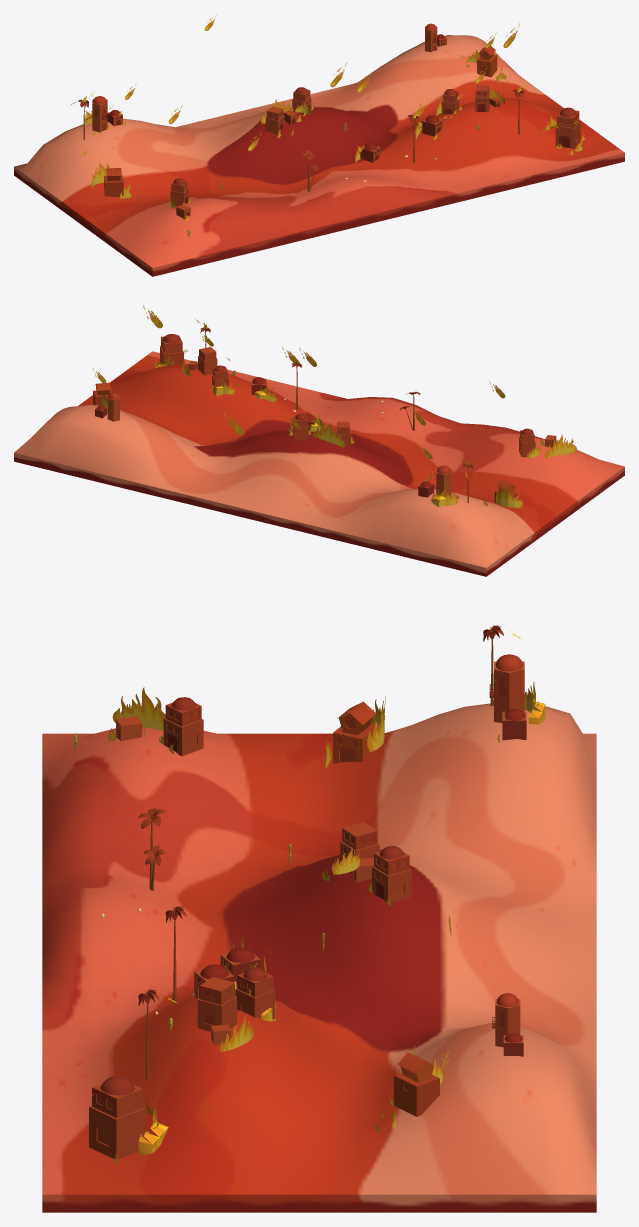
Rendered from MDL_Pag 19 - 20.fbx.
The picture shows the model from 3 angles, top to bottom: view 1: azimuth 30°, elevation 25°; view 2: azimuth 150°, elevation 25°; view 3: azimuth 270°, elevation 25°; orthographic projection. The views are drawn at different scales.
Parts seen in each view (by area): view 1: MDL_Piso_doble pag, MDL_Edificio_B_1, MDL_Edificio_E_1, MDL_Casa_A_1, MDL_Casa_A_2, MDL_Edificio_C_1, MDL_Edificio_B_3, MDL_Edificio_B_4, MDL_Edificio_C_2, MDL_Edificio_B_2; view 2: MDL_Piso_doble pag, MDL_Edificio_B_1, MDL_Fuego_7, MDL_Edificio_C_2, MDL_Edificio_E_1, MDL_Fuego_6, MDL_Edificio_B_3, MDL_Fuego_2; view 3: MDL_Piso_doble pag, MDL_Edificio_B_1, MDL_Casa_A_2, MDL_Edificio_B_3, MDL_Casa_A_1, MDL_Edificio_B_2, MDL_Edificio_E_1, MDL_Edificio_C_2, MDL_Edificio_B_4, MDL_Edificio_C_1, MDL_Edificio_E_2, MDL_Fuego_7 (+1 smaller).
Boxes of the visible parts, bbox=[...] form: MDL_Piso_doble pag: bbox=[14, 35, 624, 276]; MDL_Edificio_B_1: bbox=[555, 107, 580, 148]; MDL_Edificio_E_1: bbox=[92, 96, 107, 132]; MDL_Casa_A_1: bbox=[104, 168, 123, 197]; MDL_Casa_A_2: bbox=[477, 46, 497, 77]; MDL_Edificio_C_1: bbox=[265, 106, 284, 134]; MDL_Edificio_B_3: bbox=[170, 178, 188, 206]; MDL_Edificio_B_4: bbox=[441, 89, 459, 114]; MDL_Edificio_C_2: bbox=[475, 85, 489, 112]; MDL_Edificio_B_2: bbox=[292, 87, 311, 114]; MDL_Piso_doble pag: bbox=[14, 351, 624, 576]; MDL_Edificio_B_1: bbox=[160, 334, 183, 365]; MDL_Fuego_7: bbox=[527, 434, 576, 458]; MDL_Edificio_C_2: bbox=[198, 347, 217, 375]; MDL_Edificio_E_1: bbox=[436, 465, 451, 496]; MDL_Fuego_6: bbox=[313, 413, 345, 447]; MDL_Edificio_B_3: bbox=[519, 428, 535, 457]; MDL_Fuego_2: bbox=[496, 486, 523, 508]; MDL_Piso_doble pag: bbox=[42, 703, 596, 1212]; MDL_Edificio_B_1: bbox=[89, 1076, 145, 1159]; MDL_Casa_A_2: bbox=[394, 1052, 439, 1116]; MDL_Edificio_B_3: bbox=[163, 697, 203, 756]; MDL_Casa_A_1: bbox=[333, 701, 379, 763]; MDL_Edificio_B_2: bbox=[372, 846, 411, 902]; MDL_Edificio_E_1: bbox=[489, 654, 524, 722]; MDL_Edificio_C_2: bbox=[197, 977, 236, 1031]; MDL_Edificio_B_4: bbox=[235, 967, 275, 1019]; MDL_Edificio_C_1: bbox=[340, 822, 379, 872]; MDL_Edificio_E_2: bbox=[492, 993, 520, 1047]; MDL_Fuego_7: bbox=[112, 687, 165, 730].
Size of the model in its own units: 6566 by 1506 by 3336.
